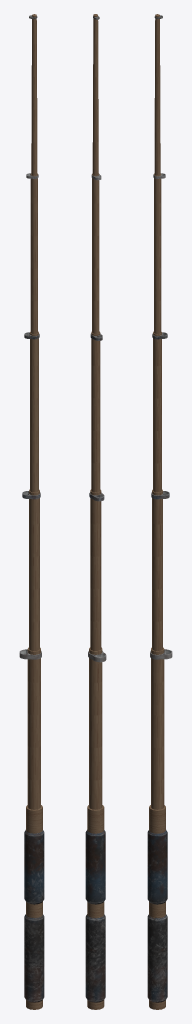
Rendered from uploads_files_4156955_FishingRod.fbx.
3 renders of one model, left to right at view 1: azimuth 90°, elevation 25°; view 2: azimuth 210°, elevation 25°; view 3: azimuth 270°, elevation 25°, orthographic.
Visible parts, largest first — view 1: FishingRod_J_BS; view 2: FishingRod_J_BS; view 3: FishingRod_J_BS.
Boxes of the visible parts, <box> form: FishingRod_J_BS: <box>19,14,44,1009</box>; FishingRod_J_BS: <box>85,14,106,1009</box>; FishingRod_J_BS: <box>147,14,172,1009</box>.
Bounding box in the file's own units: 45.61 × 2507 × 56.75.
